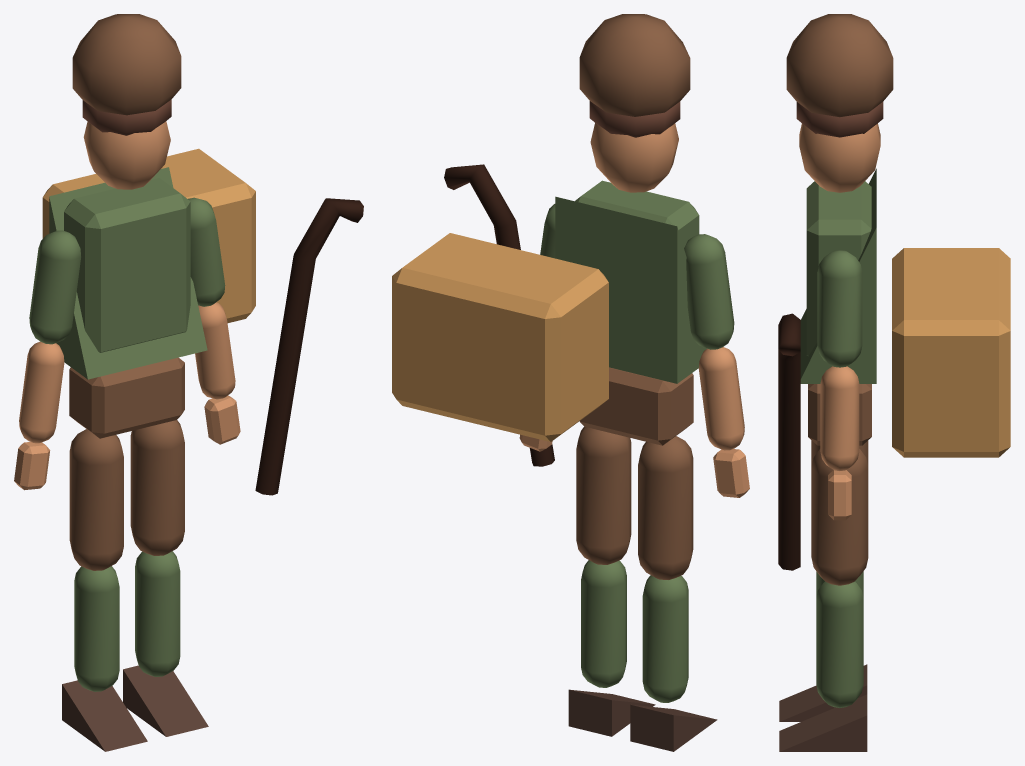
File: adventurer.rustic.glb
3 renders of one model, left to right at view 1: azimuth 30°, elevation 25°; view 2: azimuth 150°, elevation 25°; view 3: azimuth 270°, elevation 25°, orthographic.
Visible parts, largest first — view 1: torso, accessory.head, accessory.back, accessory.main-hand, thigh.left, pelvis, thigh.right, tunic, shin.right, shin.left, upper-arm.left, head (+8 smaller); view 2: accessory.back, tunic, accessory.head, thigh.left, thigh.right, pelvis, shin.left, shin.right, upper-arm.left, head, forearm.left, torso (+6 smaller); view 3: accessory.back, accessory.head, accessory.main-hand, thigh.right, shin.right, torso, upper-arm.right, head, tunic, forearm.right, foot.right, hair (+3 smaller).
Boxes of the visible parts, x1,y1,x2,y2 form: torso: (64,178,190,352); accessory.head: (72,14,181,115); accessory.back: (42,148,255,322); accessory.main-hand: (255,198,363,495); thigh.left: (69,429,123,570); pelvis: (69,357,184,438); thigh.right: (130,420,184,555); tunic: (49,167,207,379); shin.right: (135,551,180,676); shin.left: (74,566,119,691); upper-arm.left: (29,230,80,344); head: (83,121,170,189); accessory.back: (392,233,608,441); tunic: (555,196,706,383); accessory.head: (579,14,690,116); thigh.left: (638,436,693,579); thigh.right: (576,426,631,564); pelvis: (579,367,693,445); shin.left: (642,575,688,702); shin.right: (581,560,626,687); upper-arm.left: (684,234,734,349); head: (590,123,678,192); forearm.left: (698,347,744,450); torso: (575,180,699,247); accessory.back: (892,248,1010,457); accessory.head: (786,14,893,117); accessory.main-hand: (778,313,800,570); thigh.right: (811,449,868,585); shin.right: (816,581,863,707); torso: (806,181,871,355); upper-arm.right: (817,250,862,367); head: (799,123,880,192); tunic: (800,168,876,383); forearm.right: (820,366,859,470); foot.right: (779,694,867,751); hair: (796,102,883,137).
Size of the model in its own units: 1.57 by 3.29 by 0.98.
